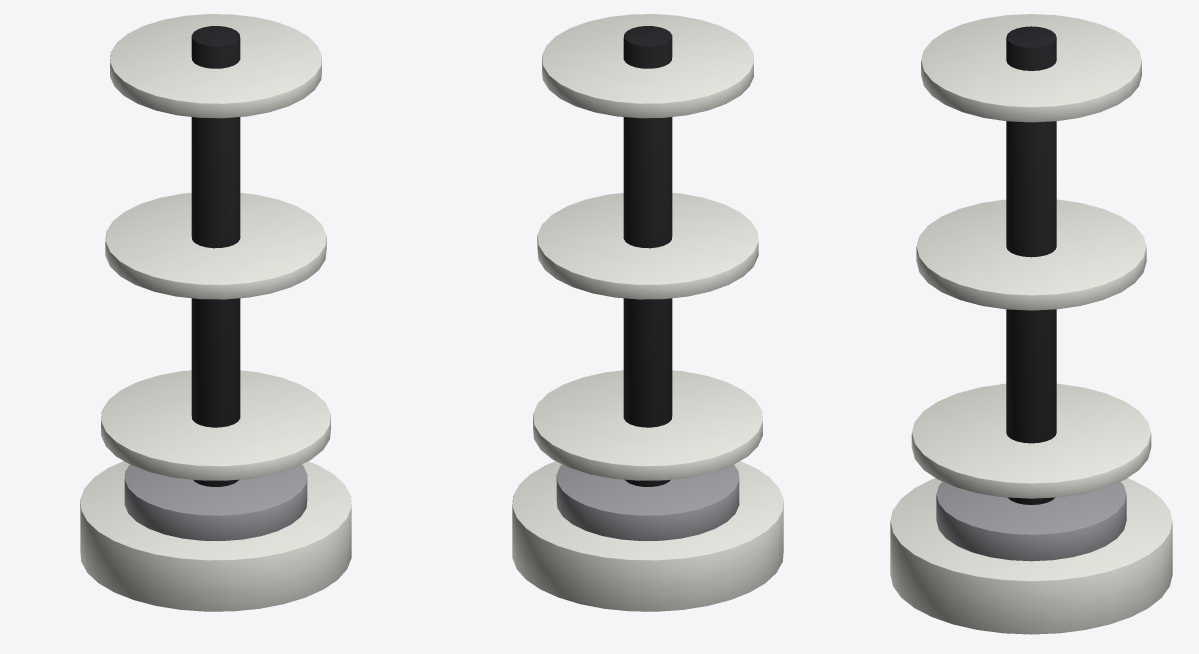
Rendered from pf_display_rotating_display_t1.glb.
The picture shows the model from 3 angles, left to right: view 1: azimuth 30°, elevation 25°; view 2: azimuth 150°, elevation 25°; view 3: azimuth 270°, elevation 25°; orthographic projection. The views are drawn at different scales.
Visible parts, largest first — view 1: Stationary_Base, Rotor_Deck_01, Rotor_Deck_02, Rotor_Deck_03, Rotor_Column, Turntable_Bearing; view 2: Stationary_Base, Rotor_Deck_01, Rotor_Deck_02, Rotor_Deck_03, Rotor_Column, Turntable_Bearing; view 3: Stationary_Base, Rotor_Deck_01, Rotor_Deck_02, Rotor_Deck_03, Rotor_Column, Turntable_Bearing.
Part boxes in pixels (x1,y1,x2,y2): Stationary_Base: (80,461,351,611); Rotor_Deck_01: (101,370,330,480); Rotor_Deck_02: (105,193,326,299); Rotor_Deck_03: (110,14,321,118); Rotor_Column: (191,26,240,486); Turntable_Bearing: (124,464,307,540); Stationary_Base: (512,461,783,611); Rotor_Deck_01: (533,370,762,480); Rotor_Deck_02: (537,193,758,299); Rotor_Deck_03: (542,14,753,118); Rotor_Column: (623,26,672,486); Turntable_Bearing: (556,464,739,540); Stationary_Base: (890,478,1172,634); Rotor_Deck_01: (911,383,1151,498); Rotor_Deck_02: (916,199,1146,310); Rotor_Deck_03: (921,14,1141,122); Rotor_Column: (1006,26,1056,504); Turntable_Bearing: (936,481,1126,561).
Size of the model in its own units: 0.62 by 1.2 by 0.62.
4 materials, 2 textured.
